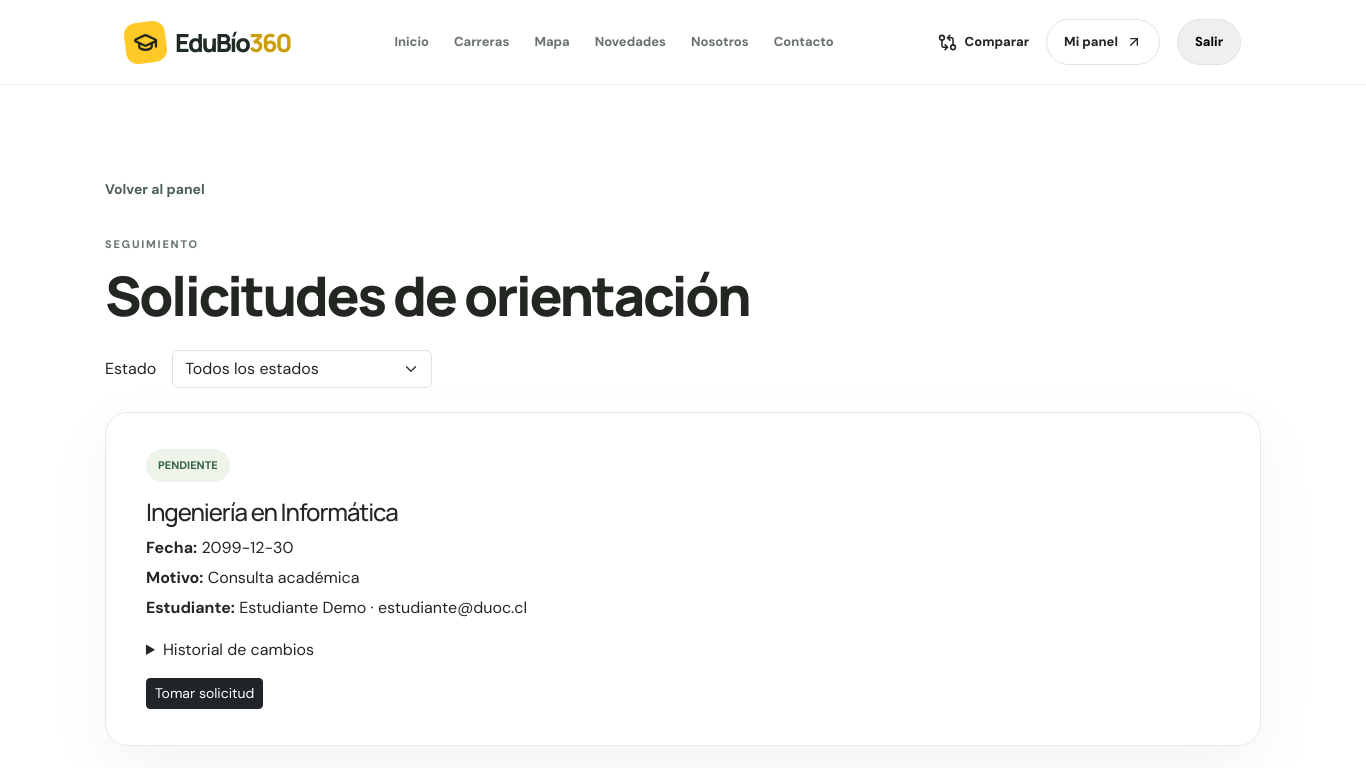
Scenario: Vistas migradas de EP1 › permite que el orientador tome una solicitud y cierre la atención
Click the button "Tomar solicitud": click(205, 693) [146,678,263,709]
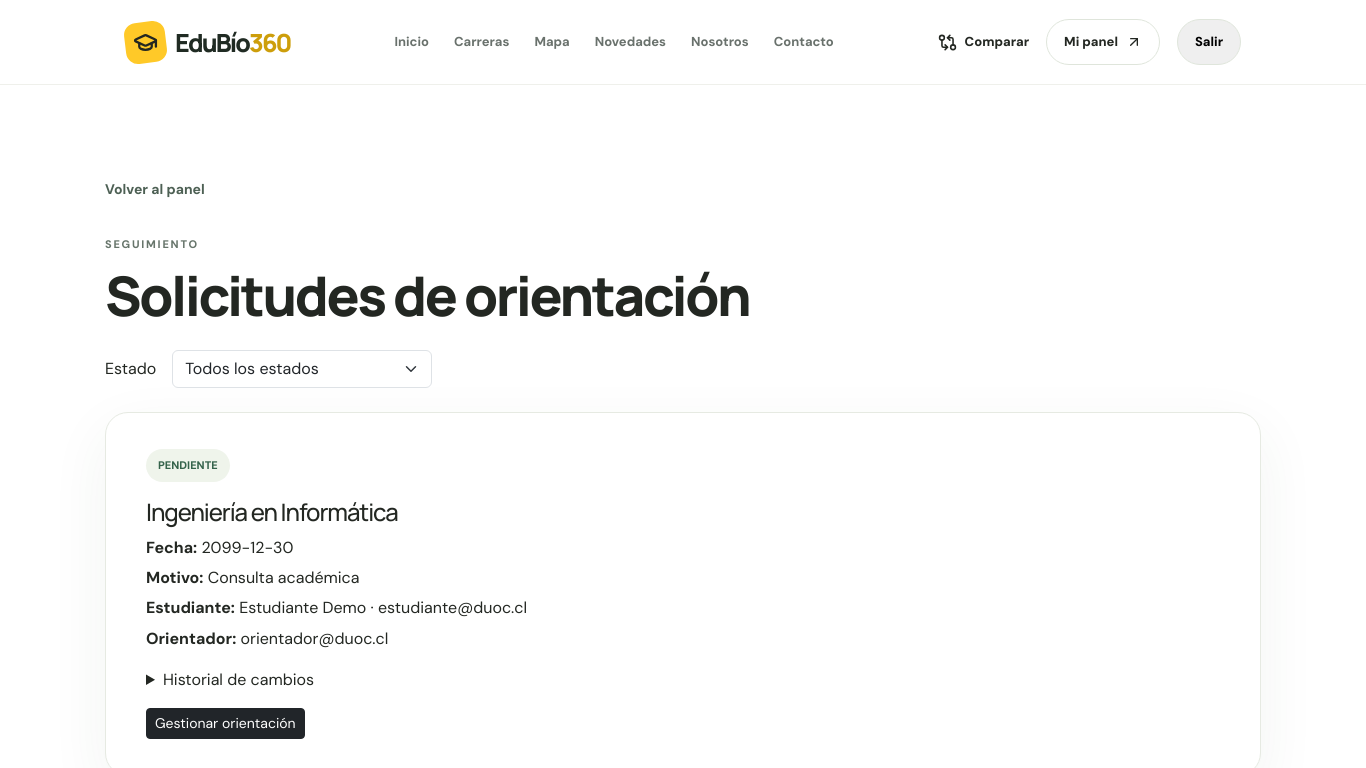
Click the link "Gestionar orientación": click(225, 724) [146,708,305,739]
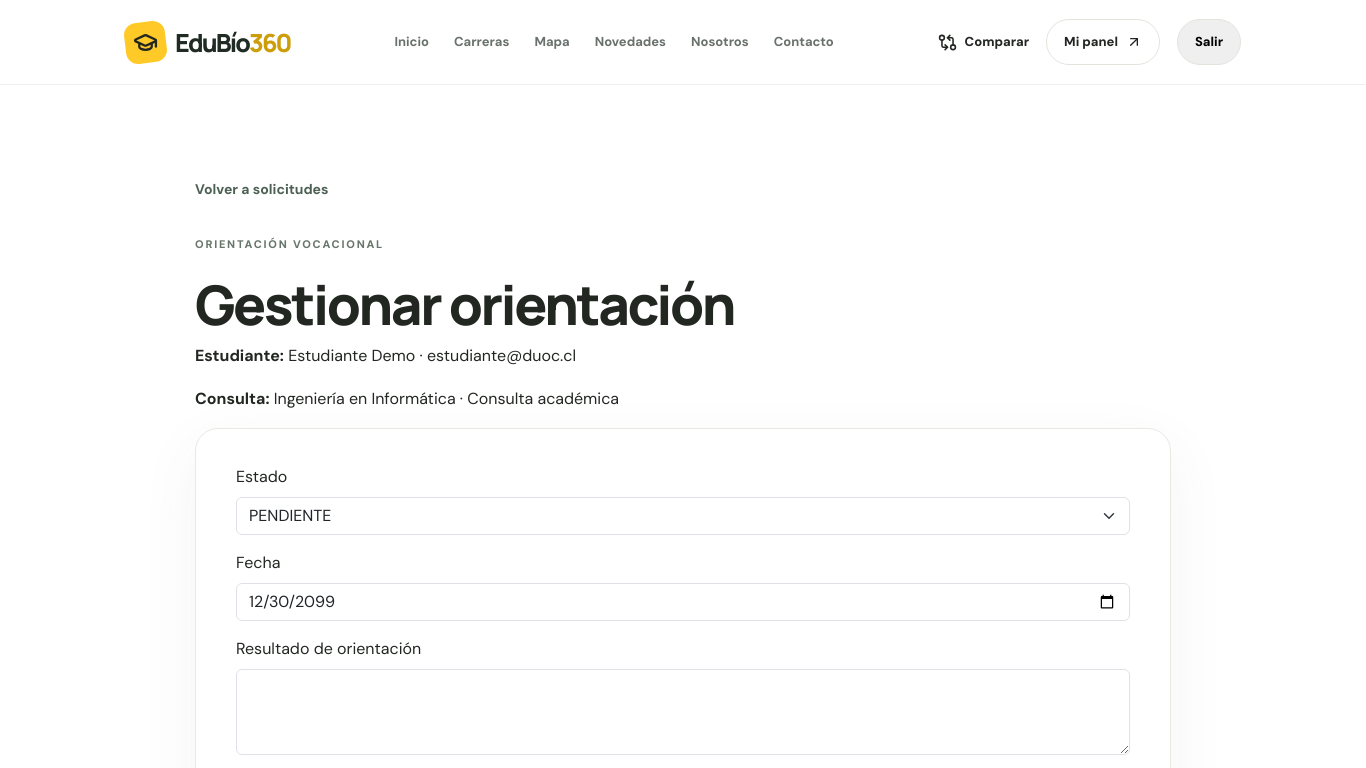
Select "ATENDIDA" in the dropdown labelled "Estado": (683, 516) [236,497,1130,535]
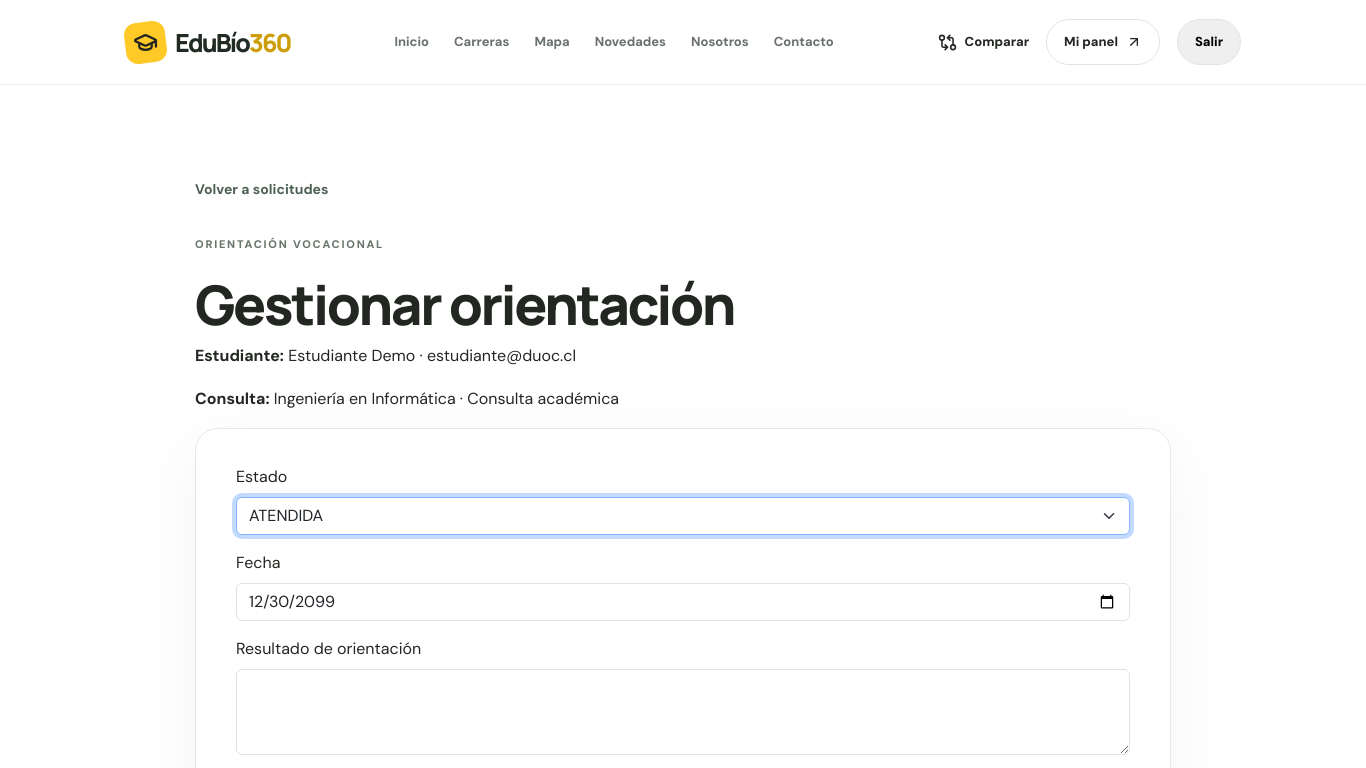
In the text box labelled "Resultado de orientación": (683, 712) [236,669,1130,755], type "Se entregó información sobre el programa"
(page scrolled)
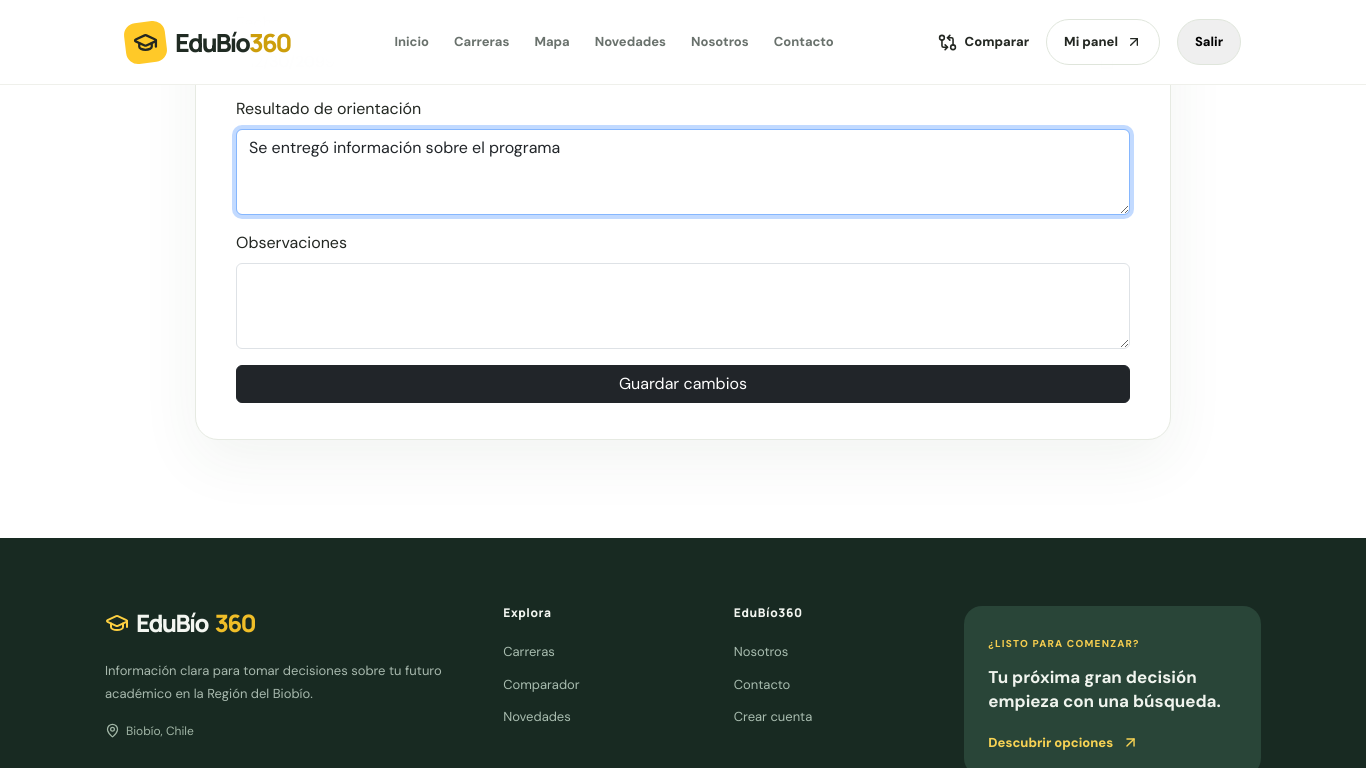
Click the button "Guardar cambios": click(683, 384) [236,365,1130,403]
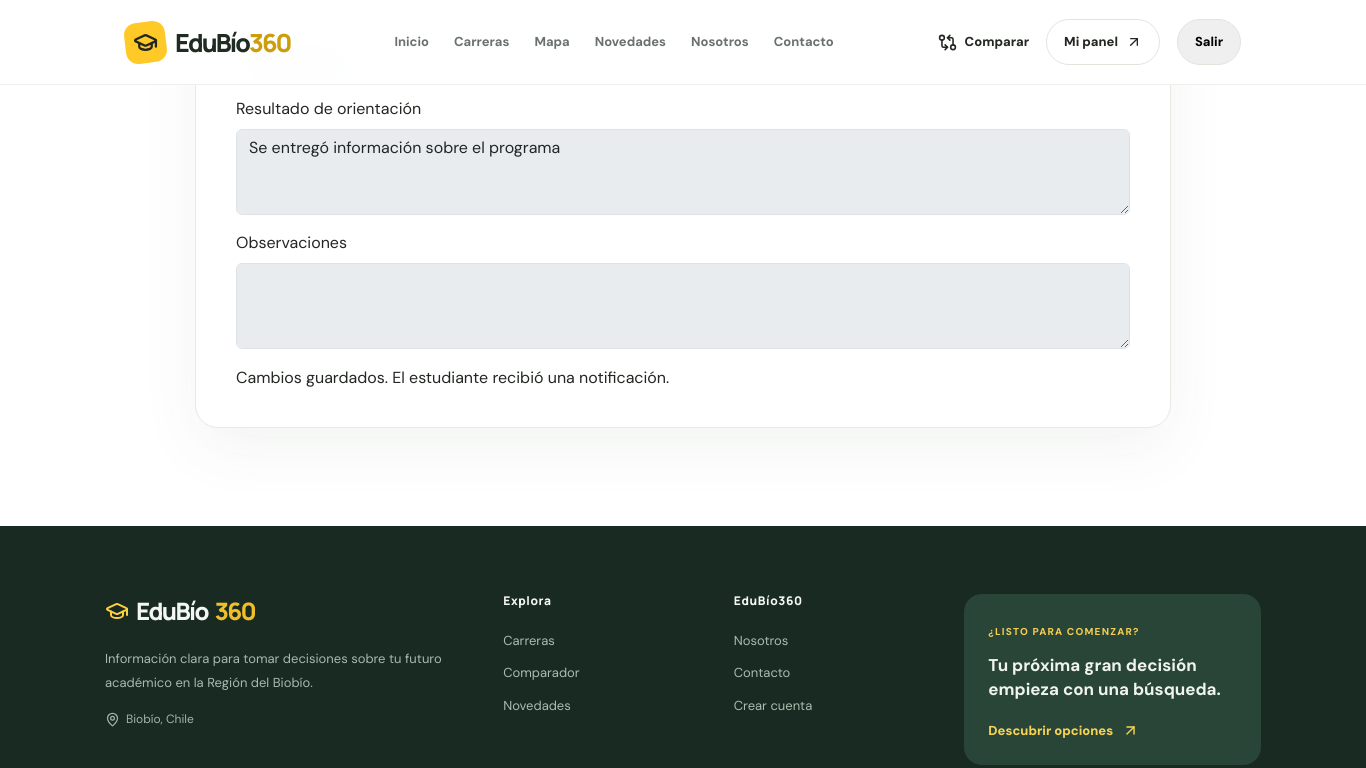
Check: the text "Cambios guardados. El estudiante recibió una notificación." is shown, box [236,367,669,388]
